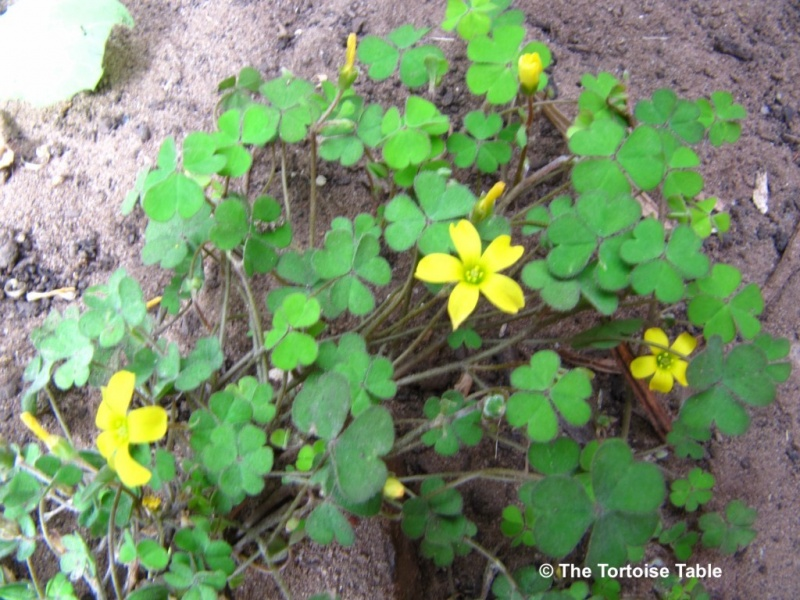oxalis: (112, 72, 432, 477), (460, 356, 744, 600), (525, 39, 757, 335)
